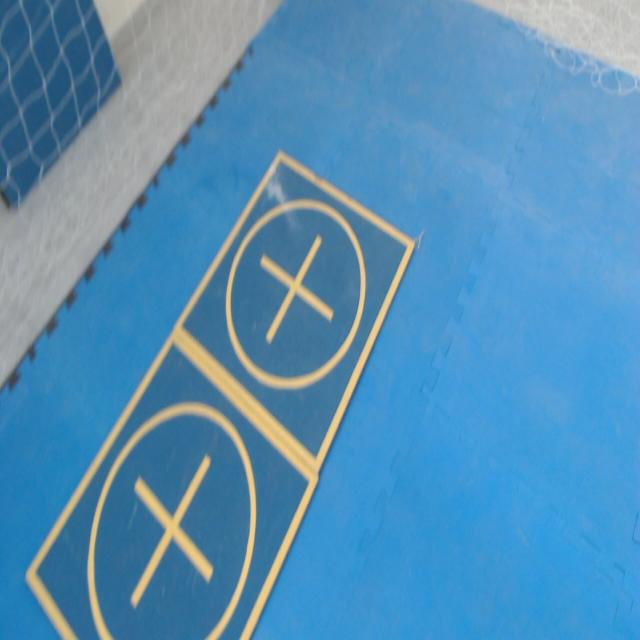base_pouso: (24, 331, 319, 639), (172, 150, 419, 475)
